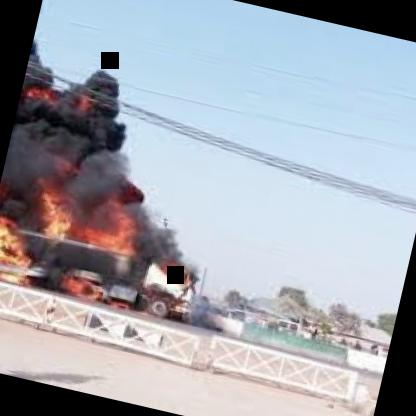fire: (0, 41, 240, 324)
